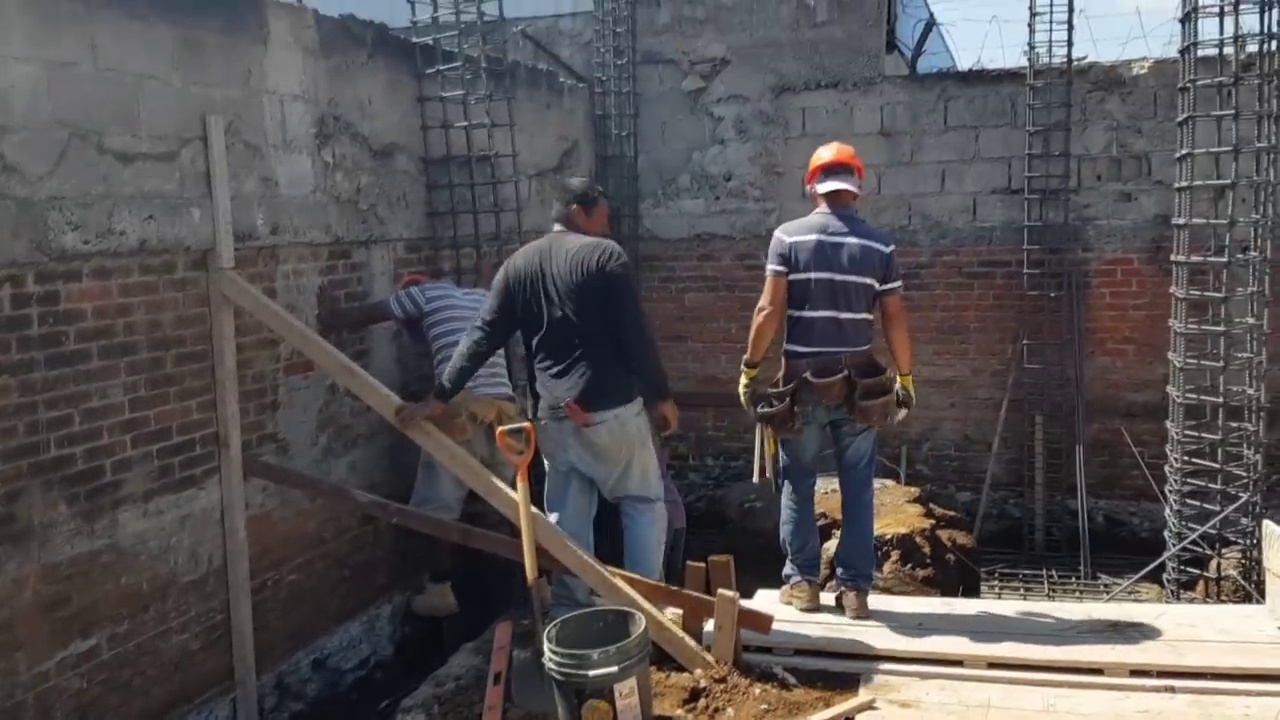helmet: (804, 143, 867, 197)
helmet-off: (554, 181, 622, 243)
helmet-on: (796, 137, 870, 224)
person: (402, 174, 685, 592), (739, 140, 923, 636), (318, 271, 528, 629)
